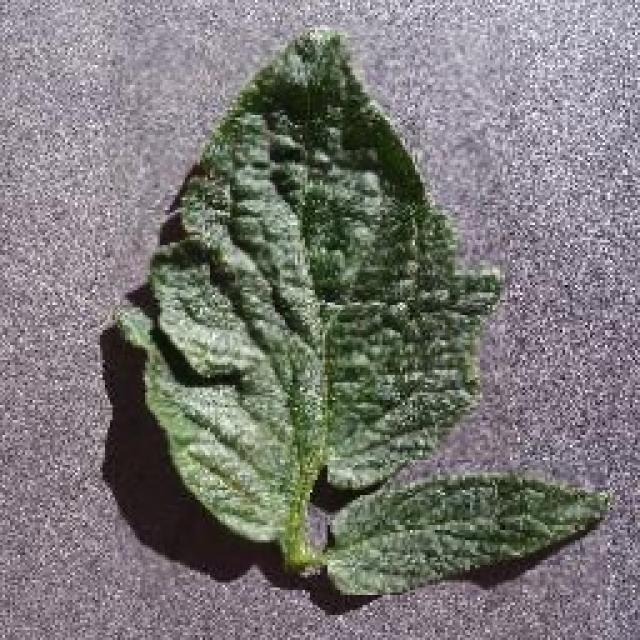Healthy: (112, 22, 510, 588), (328, 462, 608, 596)
